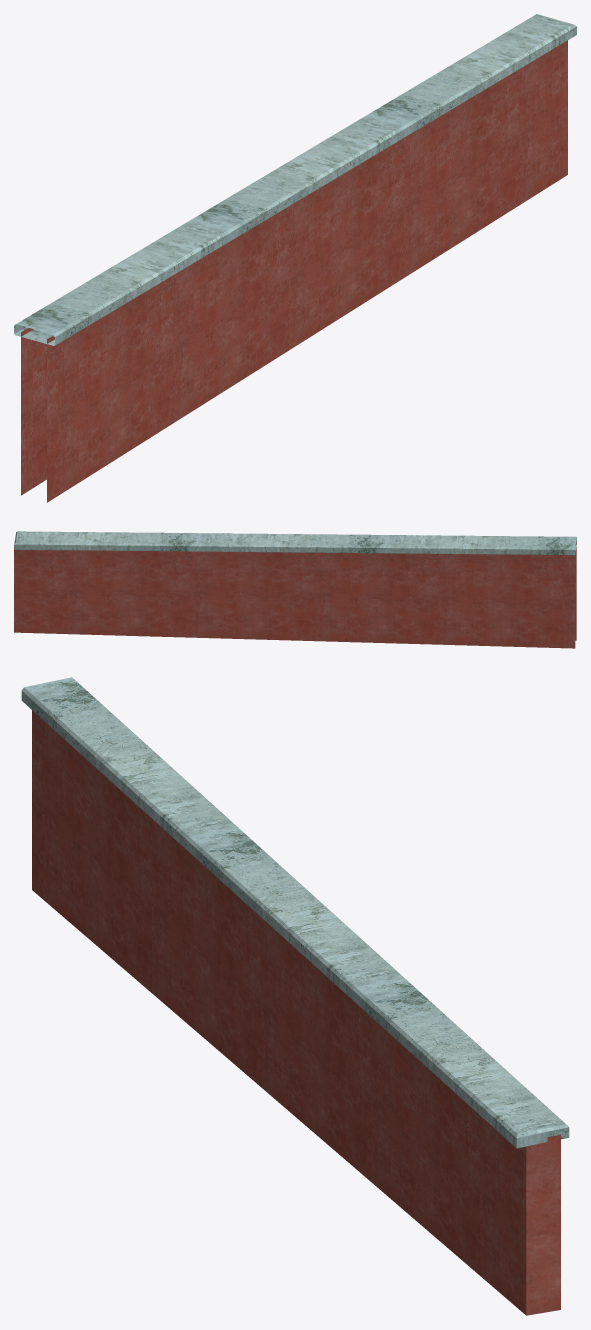
Rendered from wall.dae.
3 views of the same model, one above another, from view 1: azimuth 30°, elevation 25°; view 2: azimuth 150°, elevation 25°; view 3: azimuth 270°, elevation 25° (orthographic). The views are drawn at different scales.
Visible parts, largest first — view 1: polySurface206, polySurface207; view 2: polySurface206, polySurface207; view 3: polySurface206, polySurface207.
Part boxes in pixels (<box>): polySurface206: <box>21,40,567,502</box>; polySurface207: <box>14,14,576,345</box>; polySurface206: <box>14,542,576,648</box>; polySurface207: <box>14,531,576,555</box>; polySurface206: <box>32,710,560,1315</box>; polySurface207: <box>21,677,569,1148</box>.
Bounding box in the file's own units: 15.08 × 3.28 × 7.98.
